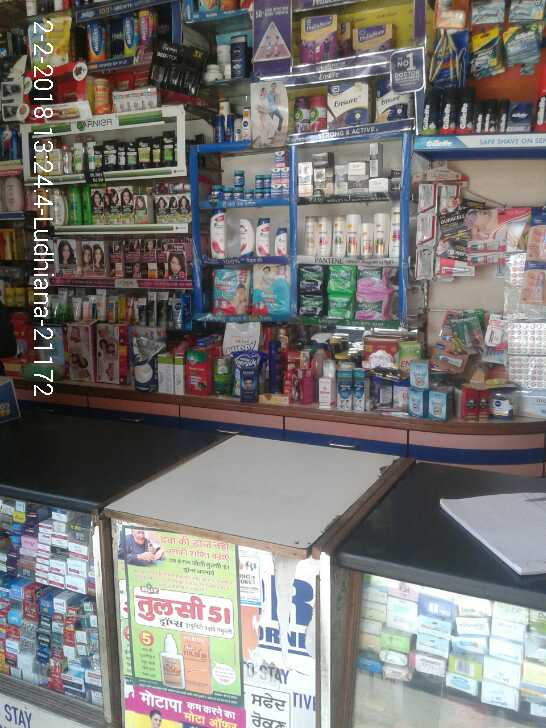vicks: (213, 147, 294, 205)
